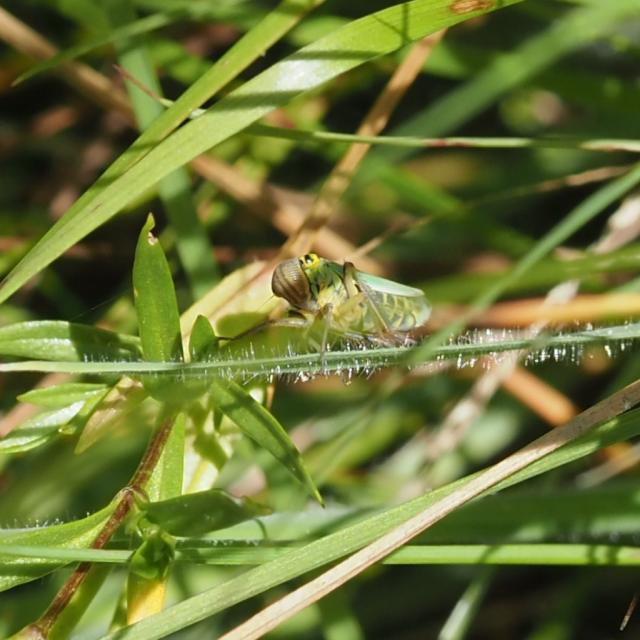wereng pada daun padi: (218, 249, 434, 372)
